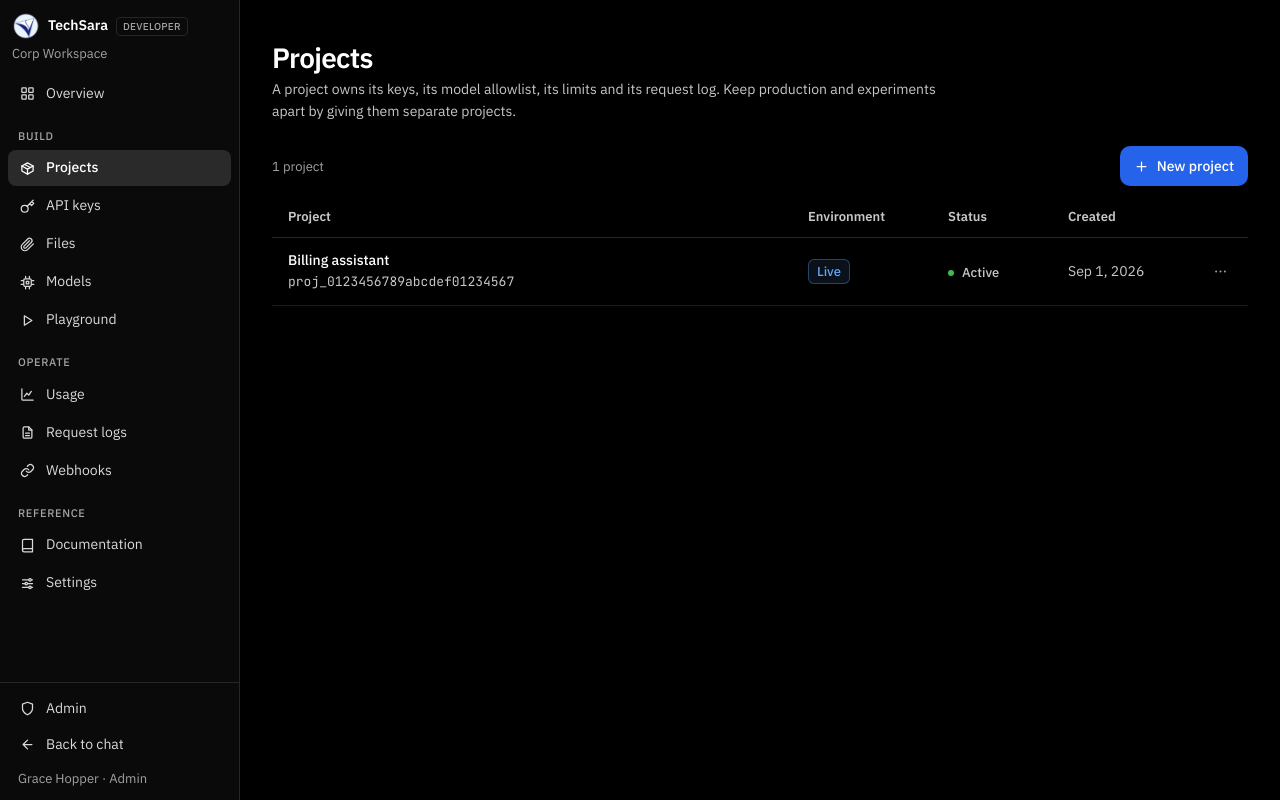
Test case: usage limits when the server does not enforce them › shows the stored rate in the project settings dialog when limits are enforced
The width and height of the screenshot is (1280, 800).
Click the button named "Actions for Billing assistant" at [1220, 271], box [1204,255,1236,287]
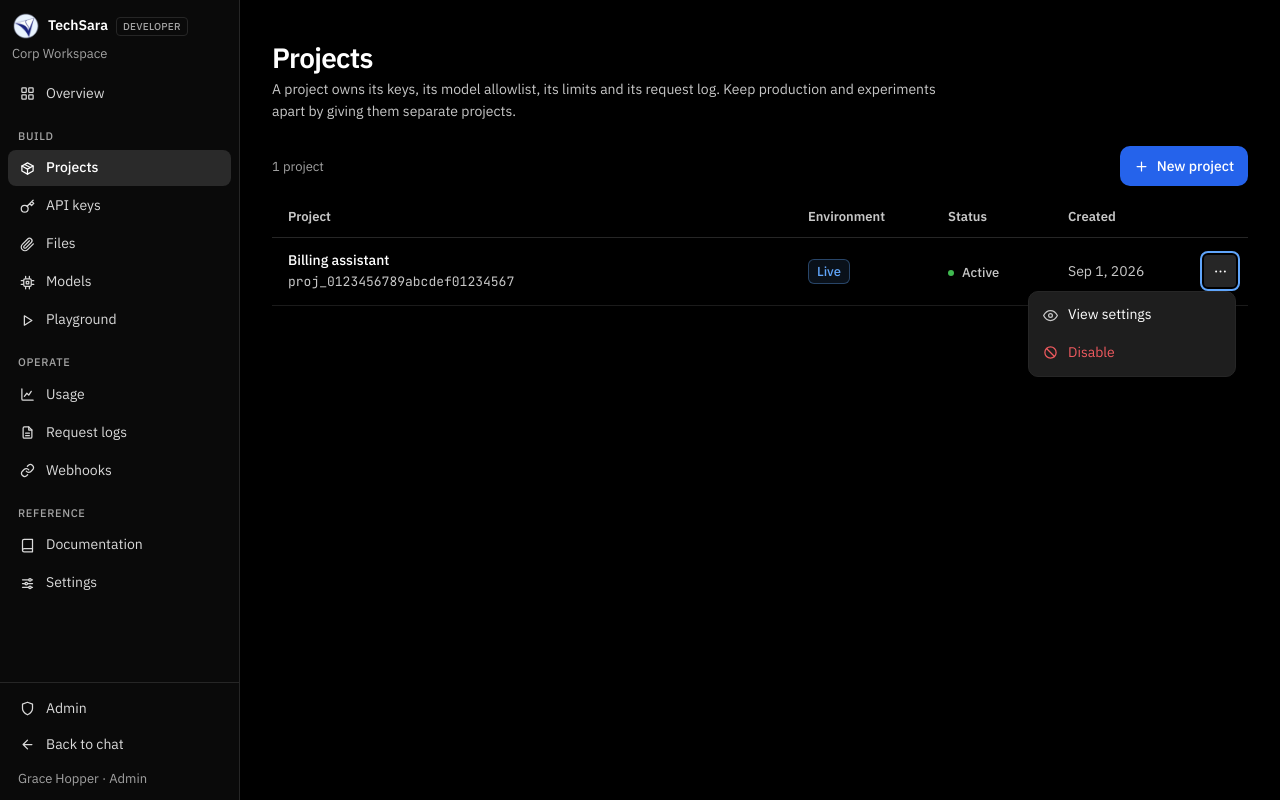
Click the menu item "View settings" at [1132, 315], box [1033,296,1231,334]
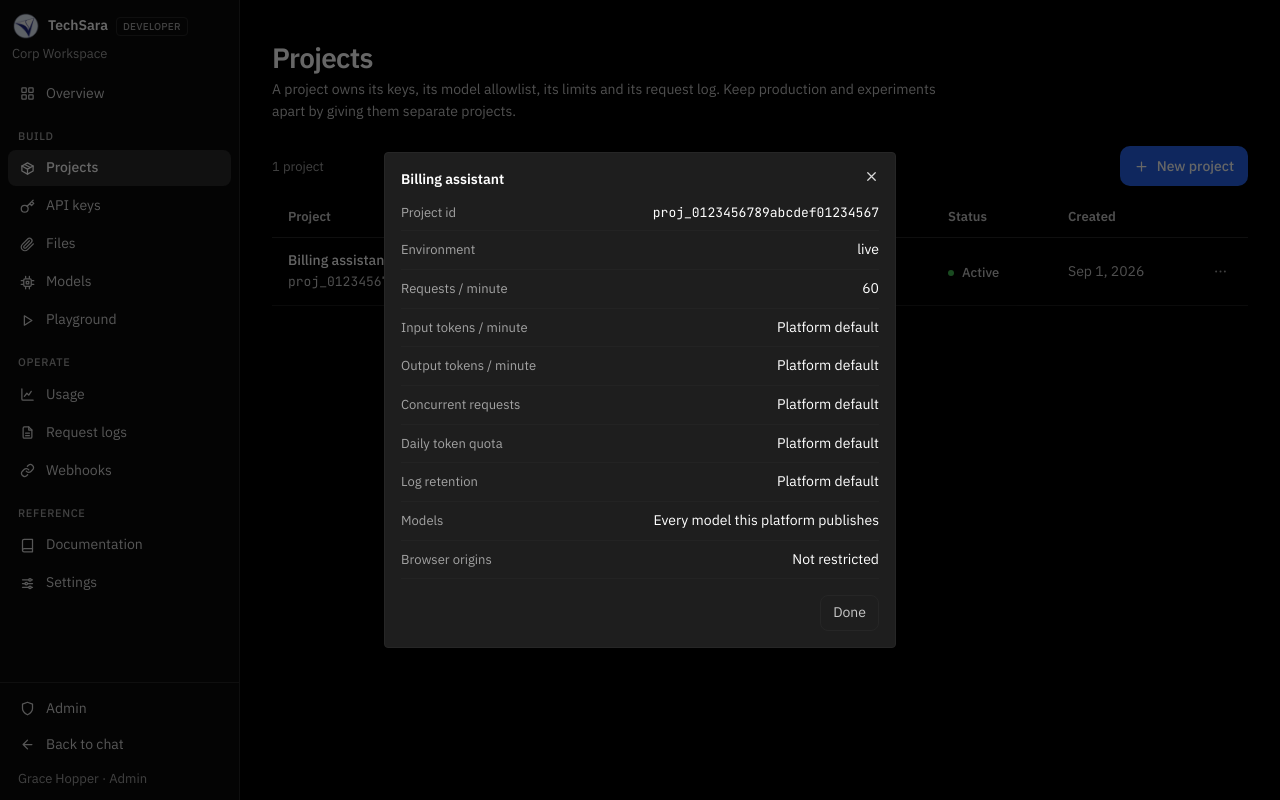
Now the text "60" is shown, box [862,278,879,300]
